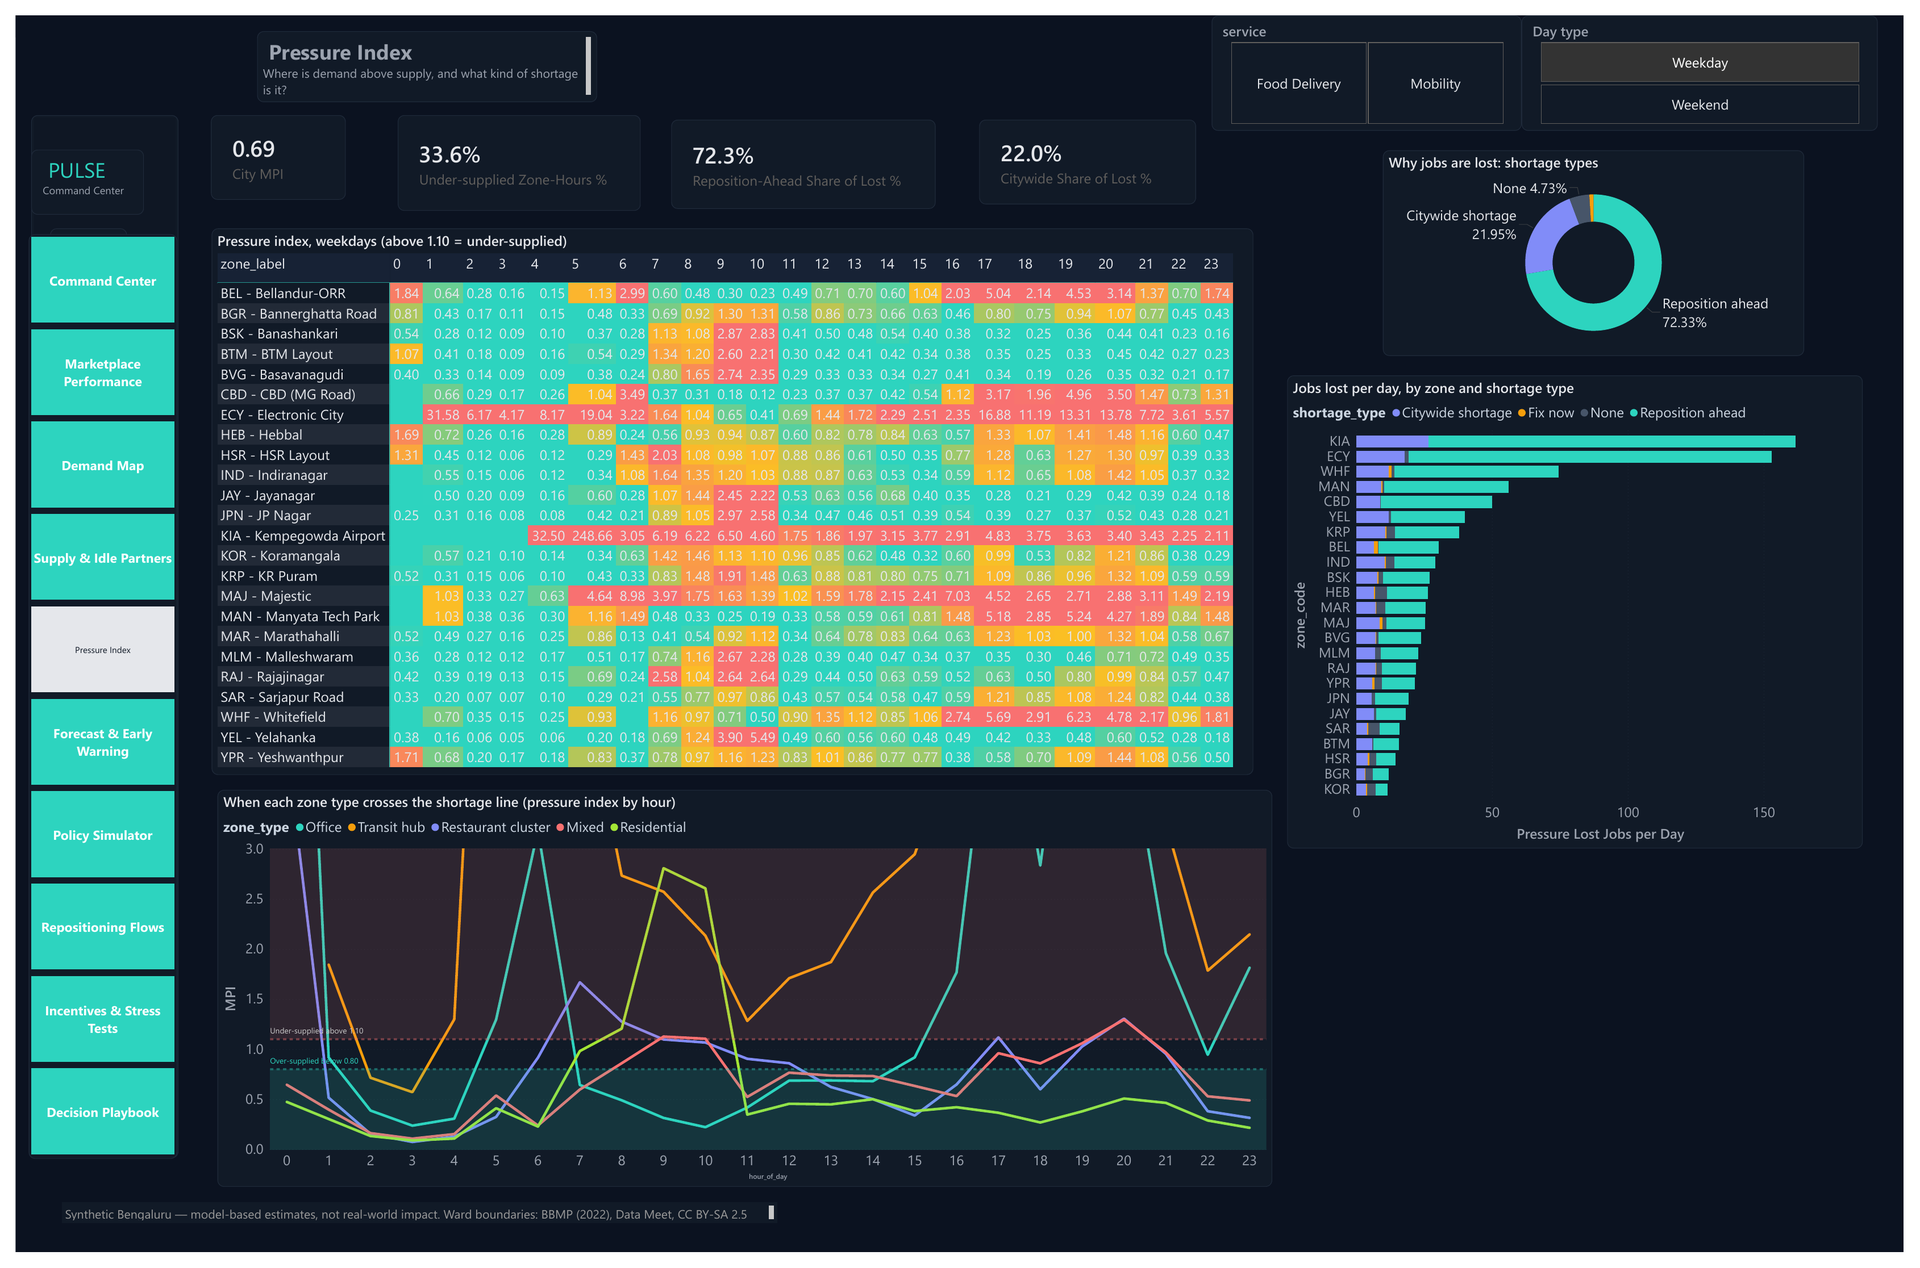

What the dashboard file says about the page in this screenshot:
{"tool":"powerbi","page":{"name":"Pressure Index","canvas":[2900,1900],"ordinal":4},"visuals":[{"type":"shape","box":[23.6,153.2,226.9,1603],"z":0},{"type":"textbox","box":[23.6,206.3,173.9,100.2],"z":1000},{"type":"pageNavigator","box":[53,327.1,117.9,29.5],"z":2000},{"type":"textbox","box":[371.3,23.6,521.6,109],"z":3000},{"type":"textbox","box":[70.7,1824,1099.1,32.4],"z":4000},{"type":"slicer","fields":{"Values":["Dim_Service.service_name"]},"box":[1836.7,0,476.7,176.7],"z":5000},{"type":"cardVisual","fields":{"Data":["_Measures.City MPI"]},"box":[300,153.3,206.7,130],"z":6000},{"type":"cardVisual","fields":{"Data":["_Measures.Citywide Share of Lost %"]},"box":[1480,160,333.3,130],"z":7000},{"type":"cardVisual","fields":{"Data":["_Measures.Under-supplied Zone-Hours %"]},"box":[586.7,153.3,373.3,146.7],"z":8000},{"type":"cardVisual","fields":{"Data":["_Measures.Reposition-Ahead Share of Lost %"]},"box":[1006.7,160,406.7,136.7],"z":9000},{"type":"pivotTable","title":"Pressure index, weekdays (above 1.10 = under-supplied)","fields":{"Rows":["Dim_Zone.zone_label"],"Values":["_Measures.MPI"],"Columns":["Dim_Time.hour_of_day"]},"box":[300.6,327.1,1600,839.8],"z":10000},{"type":"slicer","fields":{"Values":["Dim_Time.day_type"]},"box":[2313.3,0,546.7,176.7],"z":11000},{"type":"donutChart","title":"Why jobs are lost: shortage types","fields":{"Category":["Fact_Pressure.shortage_type"],"Y":["_Measures.Pressure Lost Jobs per Day"]},"box":[2100,206.7,646.7,316.7],"z":12000},{"type":"barChart","title":"Jobs lost per day, by zone and shortage type","fields":{"Category":["Dim_Zone.zone_code"],"Y":["_Measures.Pressure Lost Jobs per Day"],"Series":["Fact_Pressure.shortage_type"]},"box":[1953.3,553.3,883.3,726.7],"z":13000},{"type":"lineChart","title":"When each zone type crosses the shortage line (pressure index by hour)","fields":{"Category":["Dim_Time.hour_of_day"],"Y":["_Measures.MPI"],"Series":["Dim_Zone.zone_type"]},"box":[310,1190,1620,610],"z":14000},{"type":"pageNavigator","box":[19.6,336.4,228.6,1420.6],"z":15001}]}

Visuals, with their boxes on the page's 2900x1900 design canvas (x1, y1, x2, y2). These are canvas units, not pixel positions in the 1920x1268 screenshot, which may show the page scaled, cropped or inside an application window:
shape: 24/153/250/1756
textbox: 24/206/198/306
pageNavigator: 53/327/171/357
textbox: 371/24/893/133
textbox: 71/1824/1170/1856
slicer - Dim_Service.service_name: 1837/0/2313/177
cardVisual - _Measures.City MPI: 300/153/507/283
cardVisual - _Measures.Citywide Share of Lost %: 1480/160/1813/290
cardVisual - _Measures.Under-supplied Zone-Hours %: 587/153/960/300
cardVisual - _Measures.Reposition-Ahead Share of Lost %: 1007/160/1413/297
"Pressure index, weekdays (above 1.10 = under-supplied)" pivotTable: 301/327/1901/1167
slicer - Dim_Time.day_type: 2313/0/2860/177
"Why jobs are lost: shortage types" donutChart: 2100/207/2747/523
"Jobs lost per day, by zone and shortage type" barChart: 1953/553/2837/1280
"When each zone type crosses the shortage line (pressure index by hour)" lineChart: 310/1190/1930/1800
pageNavigator: 20/336/248/1757
